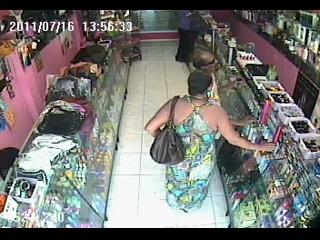Normal: (144, 69, 278, 215), (150, 95, 184, 166), (174, 11, 200, 67)
